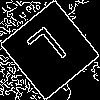L: (25, 25, 76, 78)
